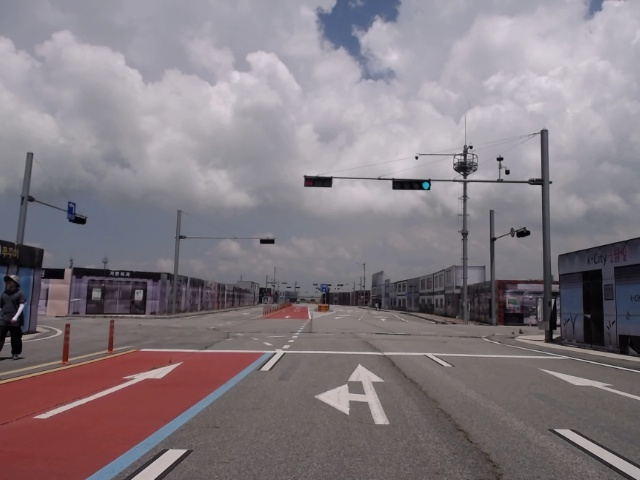straight_green_4: (393, 179, 430, 190)
